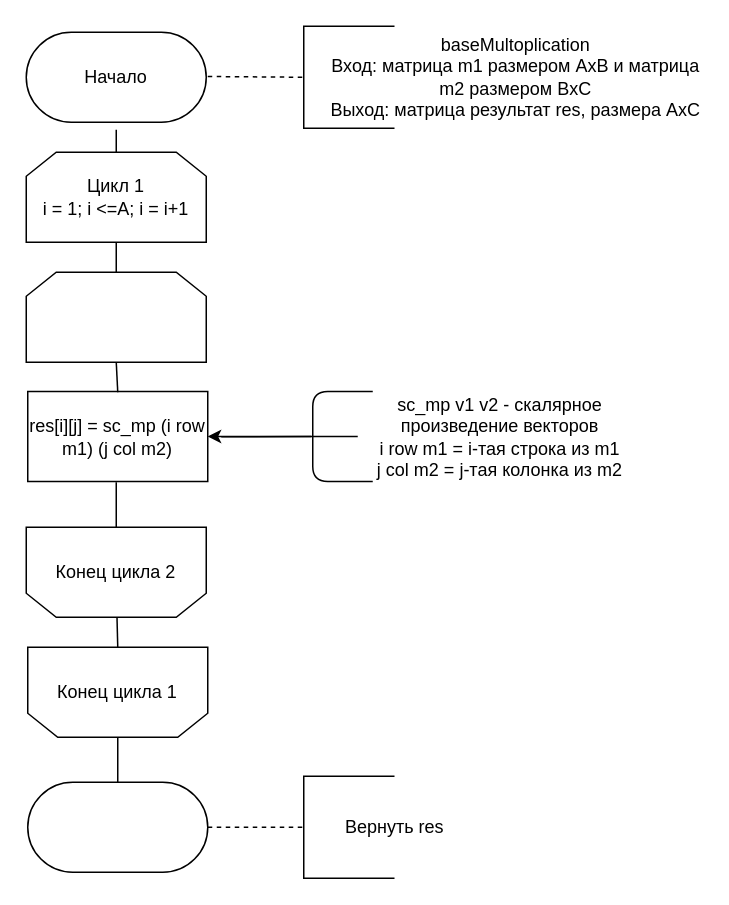
The diagram is 729 pixels wide and 905 high, and some of its shapes have lost their labels. The centre of each missing label's shape, as x and y in pixels:
"Конец" goes at (x=117, y=826).
"Цикл 2 j = 1; j <=B; j = j+1" goes at (x=115, y=316).
